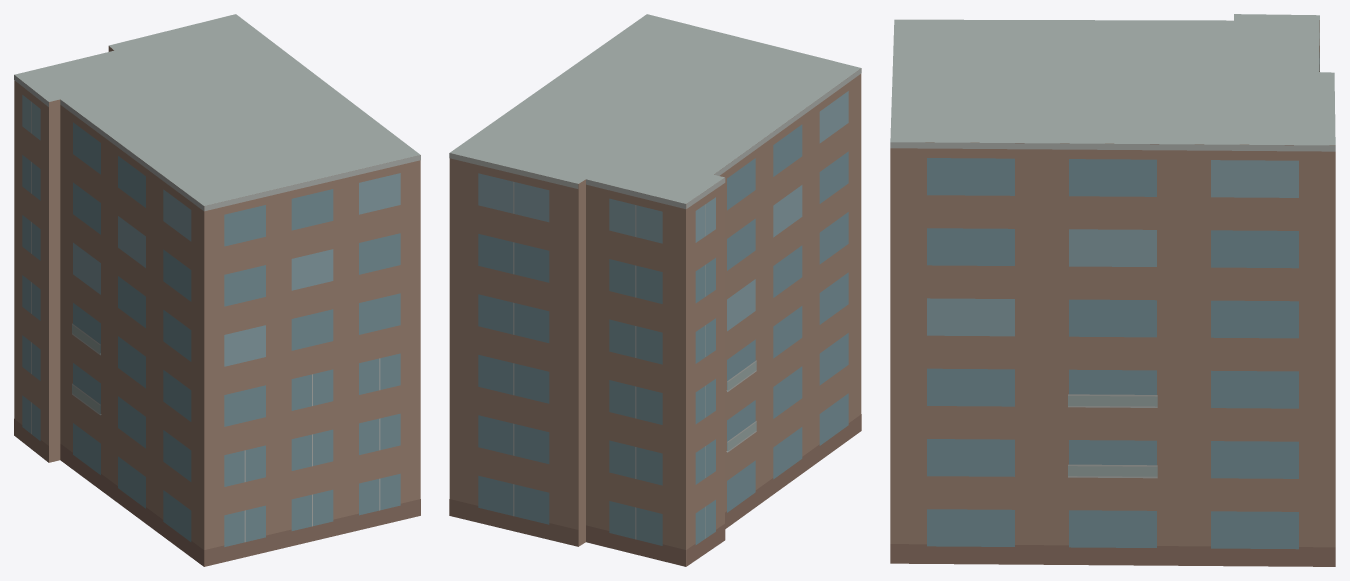
The model's file is survey-upis-32543213.glb.
3 renders of one model, left to right at view 1: azimuth 30°, elevation 25°; view 2: azimuth 150°, elevation 25°; view 3: azimuth 270°, elevation 25°, orthographic. The views are drawn at different scales.
Parts seen in each view (by area): view 1: survey-upis-32543213.tmp; view 2: survey-upis-32543213.tmp; view 3: survey-upis-32543213.tmp.
Part boxes in pixels (bbox=[...]): survey-upis-32543213.tmp: bbox=[14, 14, 420, 566]; survey-upis-32543213.tmp: bbox=[449, 14, 861, 566]; survey-upis-32543213.tmp: bbox=[890, 14, 1335, 566].
Bounding box in the file's own units: 11.18 × 16.7 × 16.
